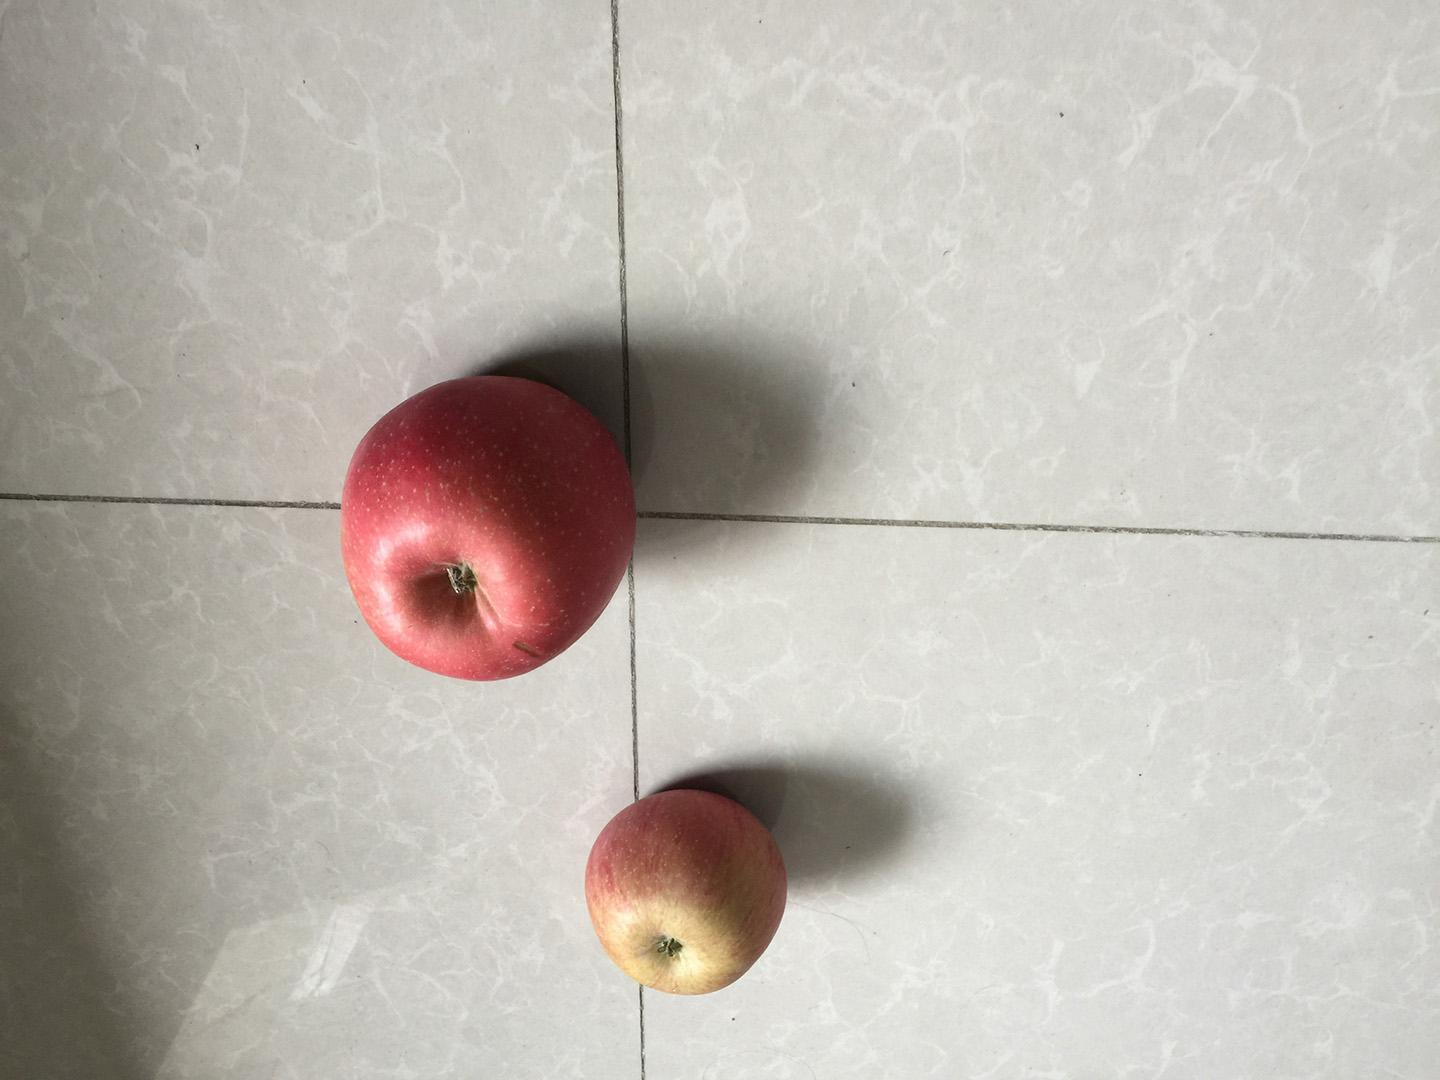apple: (330, 366, 645, 692), (583, 778, 795, 1002)
